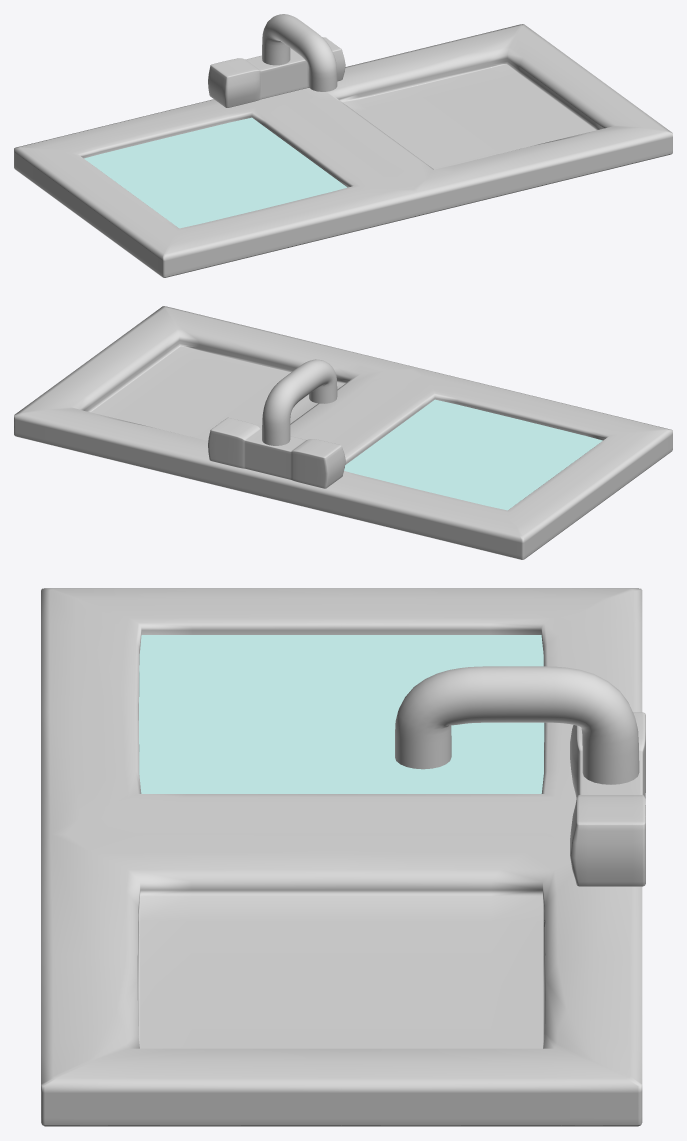
File: sink01.fbx
3 renders of one model, top to bottom at view 1: azimuth 30°, elevation 25°; view 2: azimuth 150°, elevation 25°; view 3: azimuth 270°, elevation 25°, orthographic. The views are drawn at different scales.
Visible parts, largest first — view 1: sink_table_mdl, water_SHD1, sink_hose1_mdl, sink_hose2_mdl; view 2: sink_table_mdl, water_SHD1, sink_hose1_mdl, sink_hose2_mdl; view 3: sink_table_mdl, water_SHD1, sink_hose2_mdl, sink_hose1_mdl.
Part boxes in pixels (x1,y1,x2,y2): sink_table_mdl: [14, 24, 672, 277]; water_SHD1: [84, 117, 347, 228]; sink_hose1_mdl: [208, 37, 345, 107]; sink_hose2_mdl: [262, 14, 337, 91]; sink_table_mdl: [14, 306, 672, 559]; water_SHD1: [344, 399, 602, 510]; sink_hose1_mdl: [208, 417, 345, 488]; sink_hose2_mdl: [262, 359, 337, 445]; sink_table_mdl: [41, 588, 642, 1126]; water_SHD1: [139, 635, 544, 793]; sink_hose2_mdl: [395, 666, 639, 784]; sink_hose1_mdl: [570, 712, 645, 886].
Size of the model in its own units: 1848 by 364 by 948.
